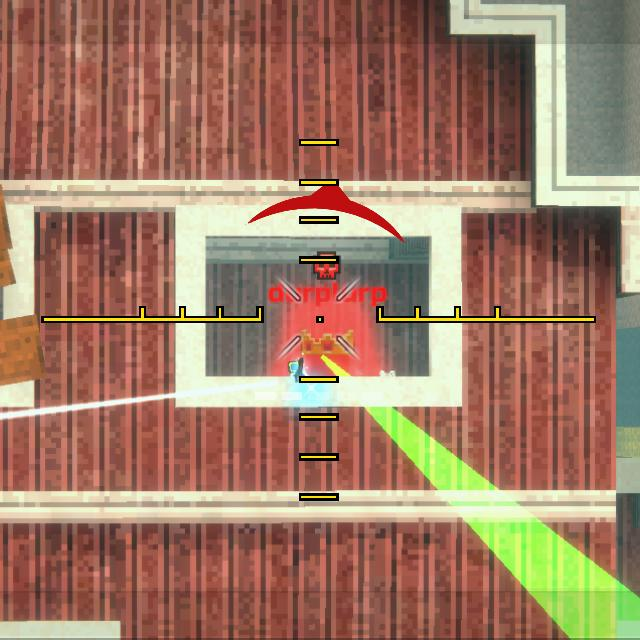Enemy: (262, 329, 382, 391)
